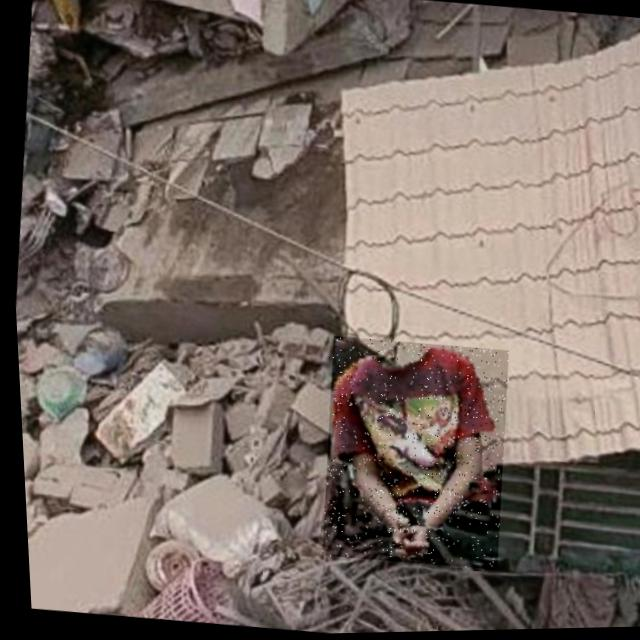Person in Rubble: (306, 334, 513, 574)
